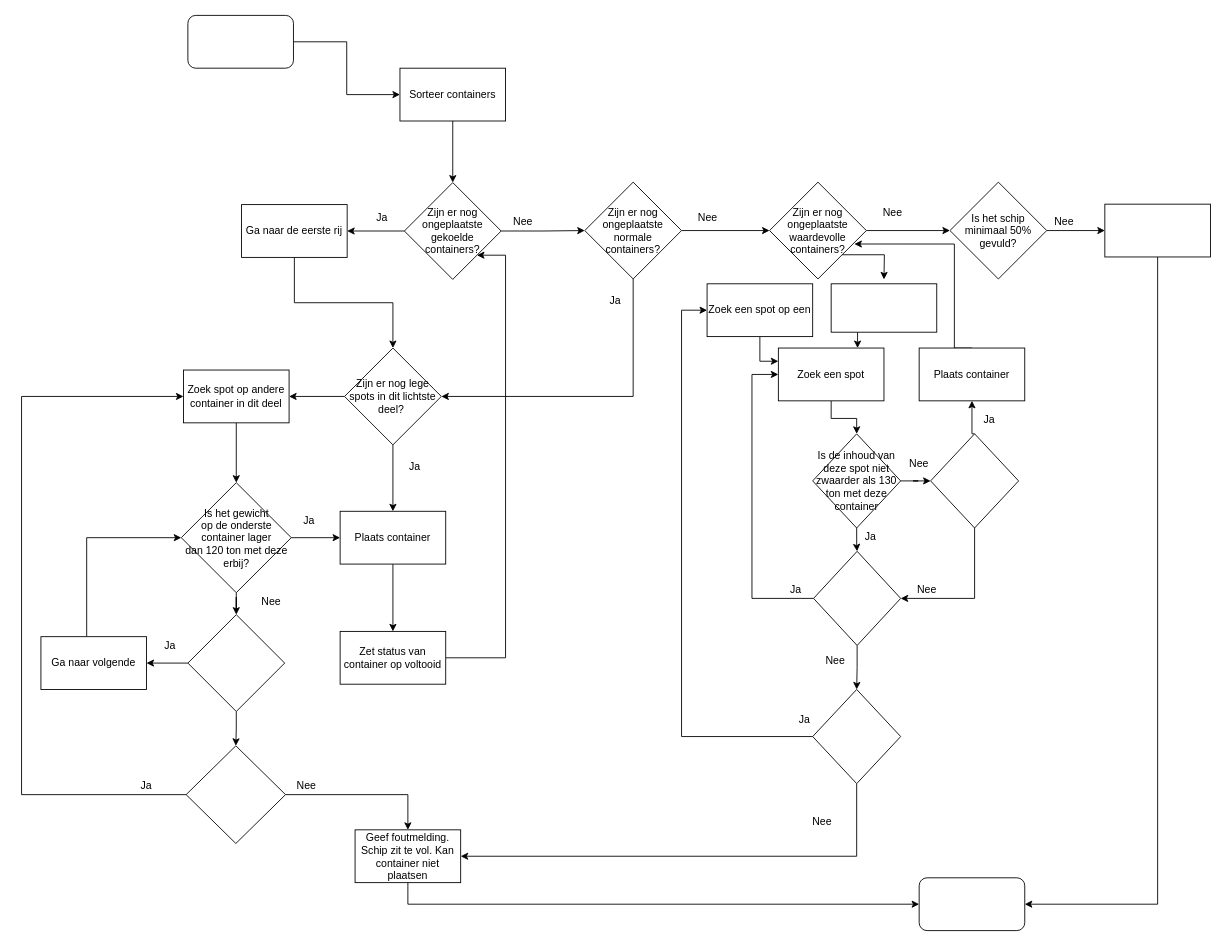
This 1226x946 diagram has some shape labels left out. The box of each missing label's shape, as (x1, y1, x2, y2) in pixels:
Einde: (918, 877, 1025, 931)
Geef foutmelding: (1104, 203, 1210, 257)
Is er nog een deel van het schip niet gecontroleerd?: (185, 745, 286, 843)
Start: (187, 15, 293, 68)
Zijn beide kanten open?: (930, 433, 1019, 528)
Zijn er nog ongecontroleerde andere delen?: (812, 689, 901, 784)
Zijn er nog ongecontroleerde containerspots?: (187, 614, 285, 711)
Zijn er ongecontroleerde spots in het deel?: (813, 550, 901, 645)
Zoek een spot in het lichtste deel: (830, 283, 937, 332)
